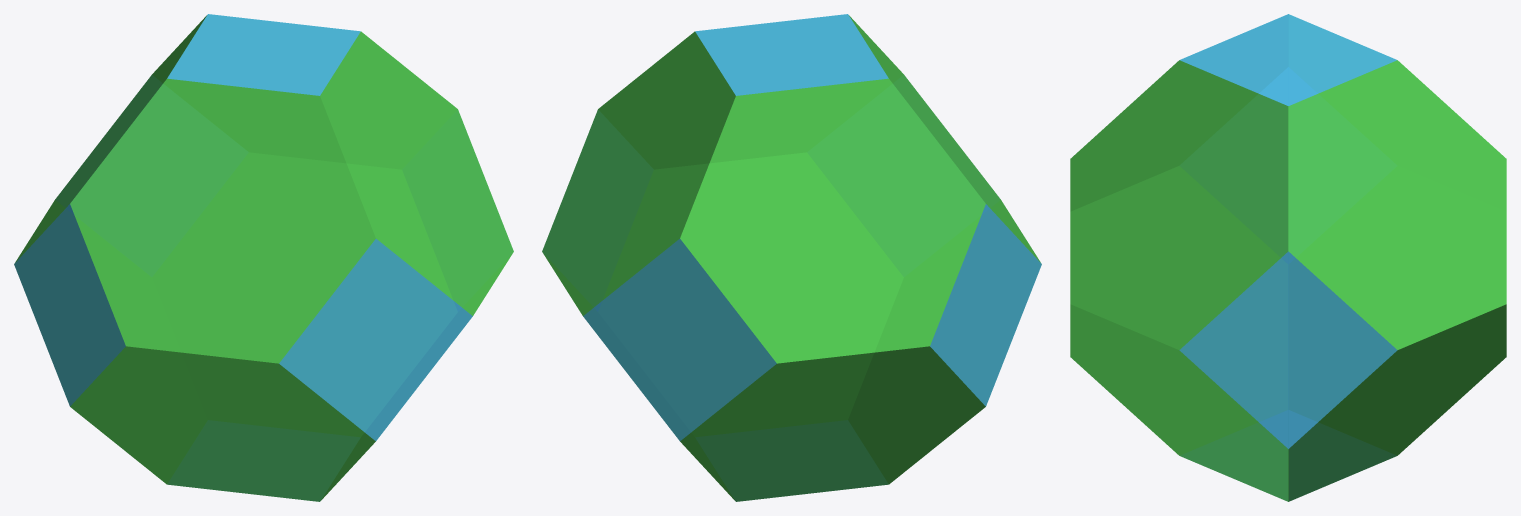
The model's file is TruncatedOctahedron.obj.
3 renders of one model, left to right at view 1: azimuth 30°, elevation 25°; view 2: azimuth 150°, elevation 25°; view 3: azimuth 270°, elevation 25°, orthographic. The views are drawn at different scales.
Bounding box in the file's own units: 2.83 × 2.83 × 2.83.
